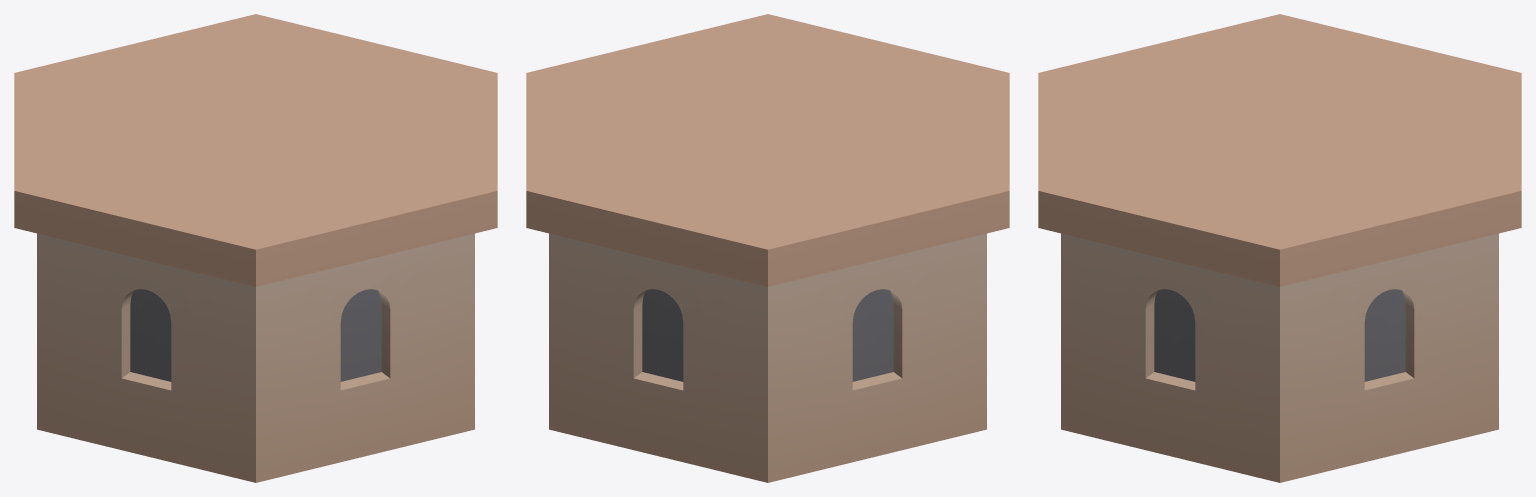
The model's file is tower-hexagon-mid.glb.
3 views of the same model, side by side, from view 1: azimuth 30°, elevation 25°; view 2: azimuth 150°, elevation 25°; view 3: azimuth 270°, elevation 25° (orthographic).
Visible parts, largest first — view 1: tower-hexagon-mid; view 2: tower-hexagon-mid; view 3: tower-hexagon-mid.
Part boxes in pixels (box(x1,y1,x2,y2)): tower-hexagon-mid: box(14, 14, 497, 482); tower-hexagon-mid: box(526, 14, 1009, 482); tower-hexagon-mid: box(1038, 14, 1521, 482).
Bounding box in the file's own units: 0.9524 × 0.46 × 0.8248.
